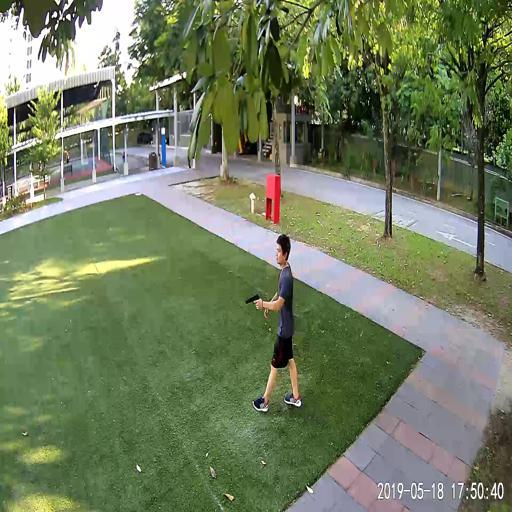Handgun: (244, 291, 258, 305)
